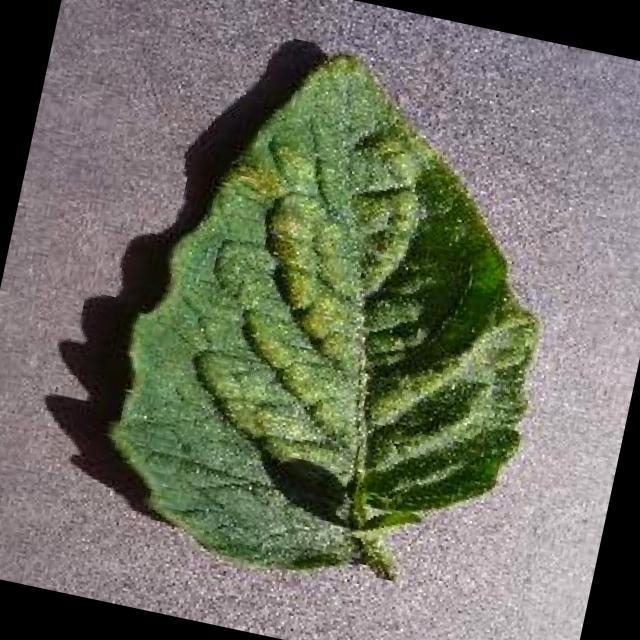Tomato spider mites leaf: (86, 22, 594, 616)
